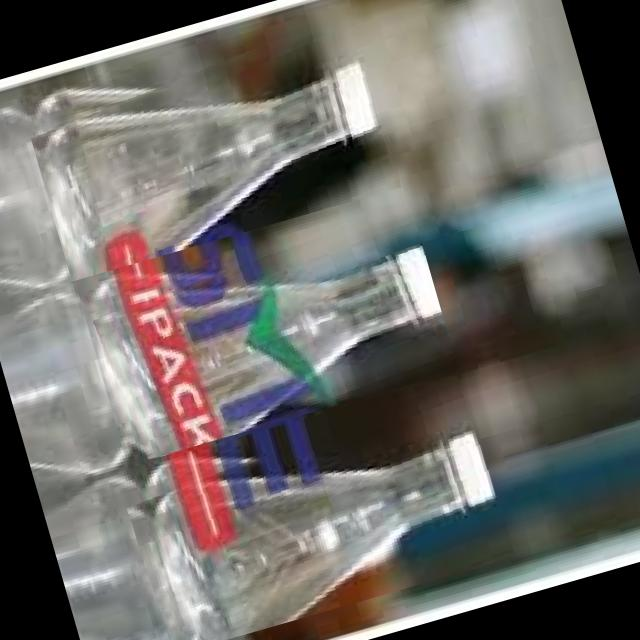plastic bottle: (20, 7, 407, 281), (116, 378, 513, 640), (84, 204, 457, 464)
